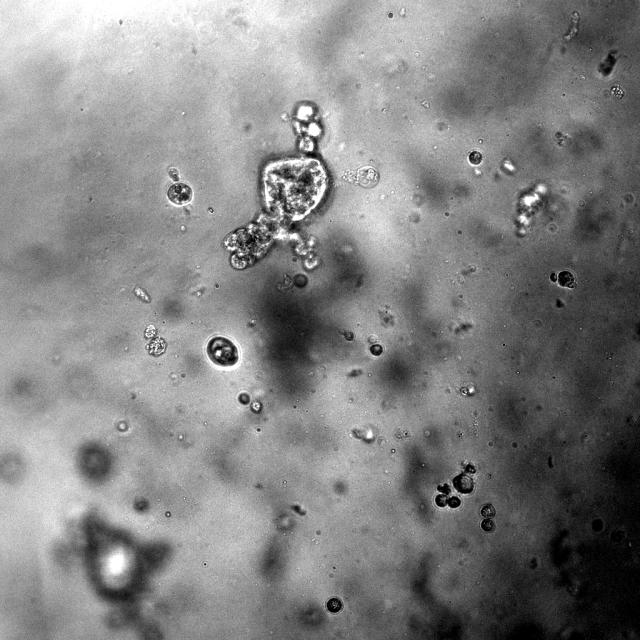organoid: (224, 100, 330, 269), (434, 463, 475, 508), (514, 183, 547, 235), (204, 334, 241, 370), (167, 167, 192, 205), (342, 165, 379, 188), (144, 324, 167, 356), (549, 269, 576, 288), (598, 50, 617, 76), (479, 503, 496, 532), (326, 596, 343, 614), (132, 286, 150, 302), (467, 149, 483, 167), (293, 273, 308, 287), (249, 398, 262, 413), (369, 343, 383, 356), (611, 85, 624, 98), (239, 393, 250, 405), (341, 331, 354, 340), (387, 11, 394, 19)
